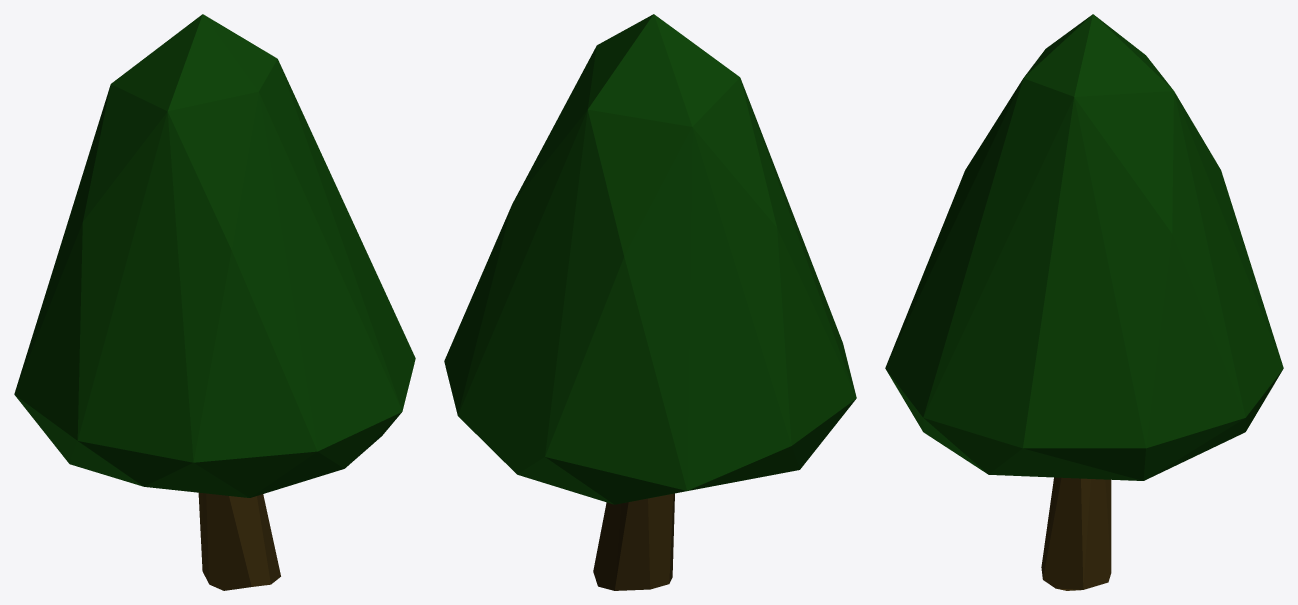
Rendered from Tree_2.fbx.
3 views of the same model, side by side, from view 1: azimuth 30°, elevation 25°; view 2: azimuth 150°, elevation 25°; view 3: azimuth 270°, elevation 25° (orthographic). The views are drawn at different scales.
Visible parts, largest first — view 1: Cylinder; view 2: Cylinder; view 3: Cylinder.
Part boxes in pixels (x1=…): Cylinder: x1=14, y1=14, x2=415, y2=590; Cylinder: x1=444, y1=14, x2=856, y2=590; Cylinder: x1=885, y1=14, x2=1283, y2=590.
Bounding box in the file's own units: 16.94 × 26.97 × 17.81.
